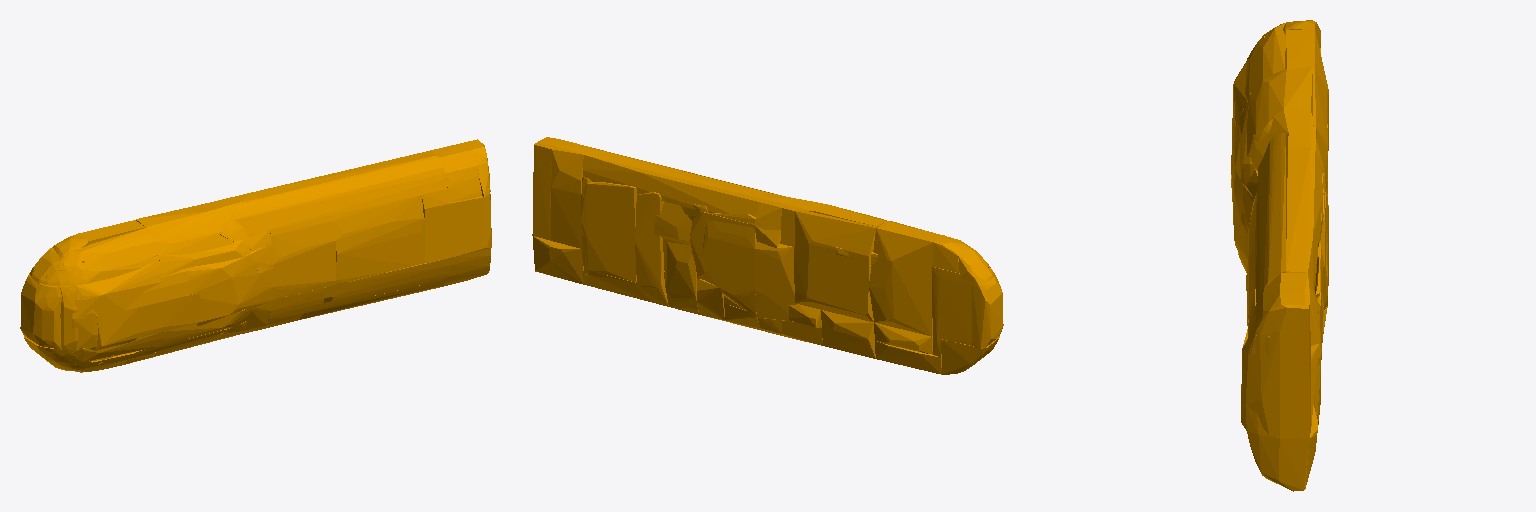
URDF robot description (remote-nvtc):
<?xml version="1.0" ?>
<robot name="remote-nvtc">
  <link name="baseLink">
    <contact>
      <lateral_friction value="1.0"/>
      <inertia_scaling value="3.0"/>
    </contact>
    <inertial>
      <origin rpy="0 0 0" xyz="0.000 0.000 0.000"/>
       <mass value=".1"/>
       <inertia ixx="1" ixy="0.0" ixz="0.0" iyy="1" iyz="0.0" izz="1"/>
    </inertial>
    <visual>
      <origin rpy="0 0 0" xyz="0 0 0"/>
      <geometry>
        <mesh filename="remote/remote-nvtc.obj" scale="1.0 1.0 1.0"/>
      </geometry>
    </visual>
    <collision>
      <origin rpy="0 0 0" xyz="0 0 0"/>
      <geometry>
        <mesh filename="../collision/remote/remote-nvtc.obj" scale="1.0 1.0 1.0"/>
      </geometry>
    </collision>
  </link>
</robot>
        

--- Facts derived from the render (not from the file) ---
Views: 3 orthographic renders of the robot side by side, from view 1: azimuth 30°, elevation 25°; view 2: azimuth 150°, elevation 25°; view 3: azimuth 270°, elevation 25°.
Model remote-nvtc with 1 links and 0 joints (none), rooted at baseLink, posed all joints at 0.
Visible links, largest first — view 1: baseLink; view 2: baseLink; view 3: baseLink.
Boxes of the visible links, <box> form: baseLink: <box>20,139,491,372</box>; baseLink: <box>532,137,1003,374</box>; baseLink: <box>1231,20,1328,491</box>.
Bounding box of the posed robot: 0.1781 × 0.0233 × 0.0493 m (x, y, z).
1 mesh visuals loaded from 1 distinct referenced files (1 OBJ).